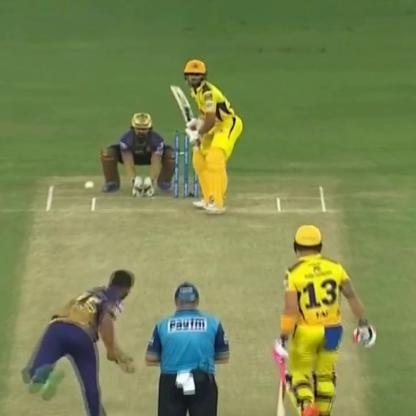ball: (77, 178, 100, 198)
bat: (160, 76, 206, 144)
pitch: (5, 168, 359, 416)
